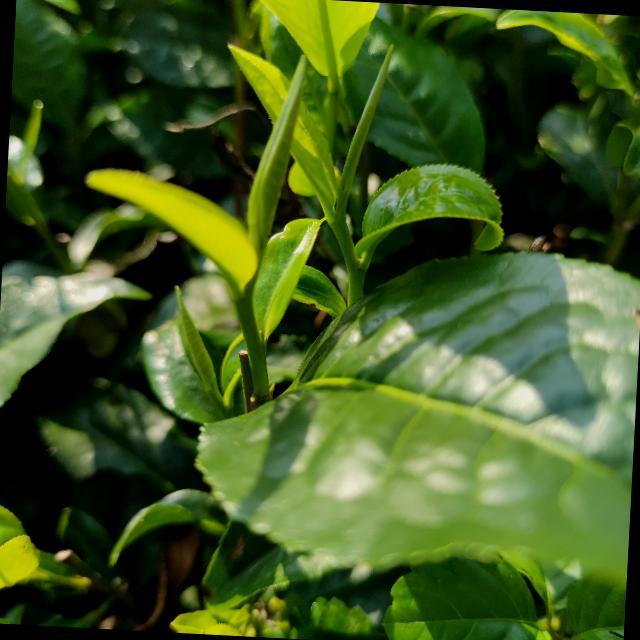Stem: (233, 298, 261, 342), (330, 218, 355, 260)
